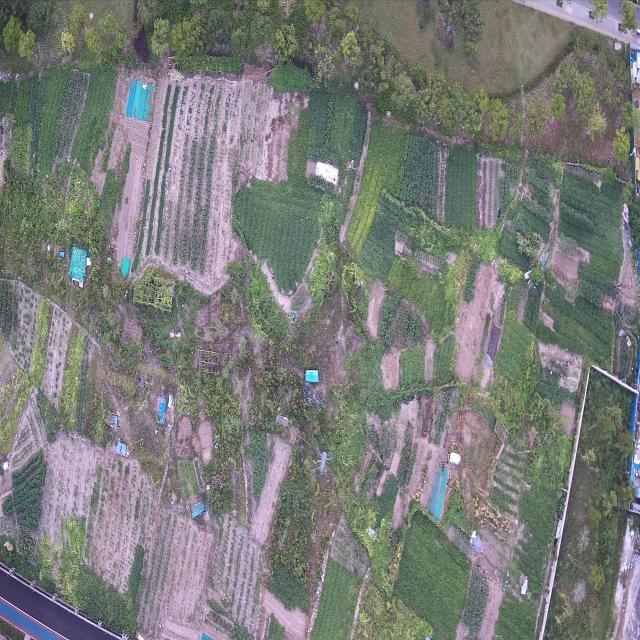UAV: (313, 447, 333, 482)
